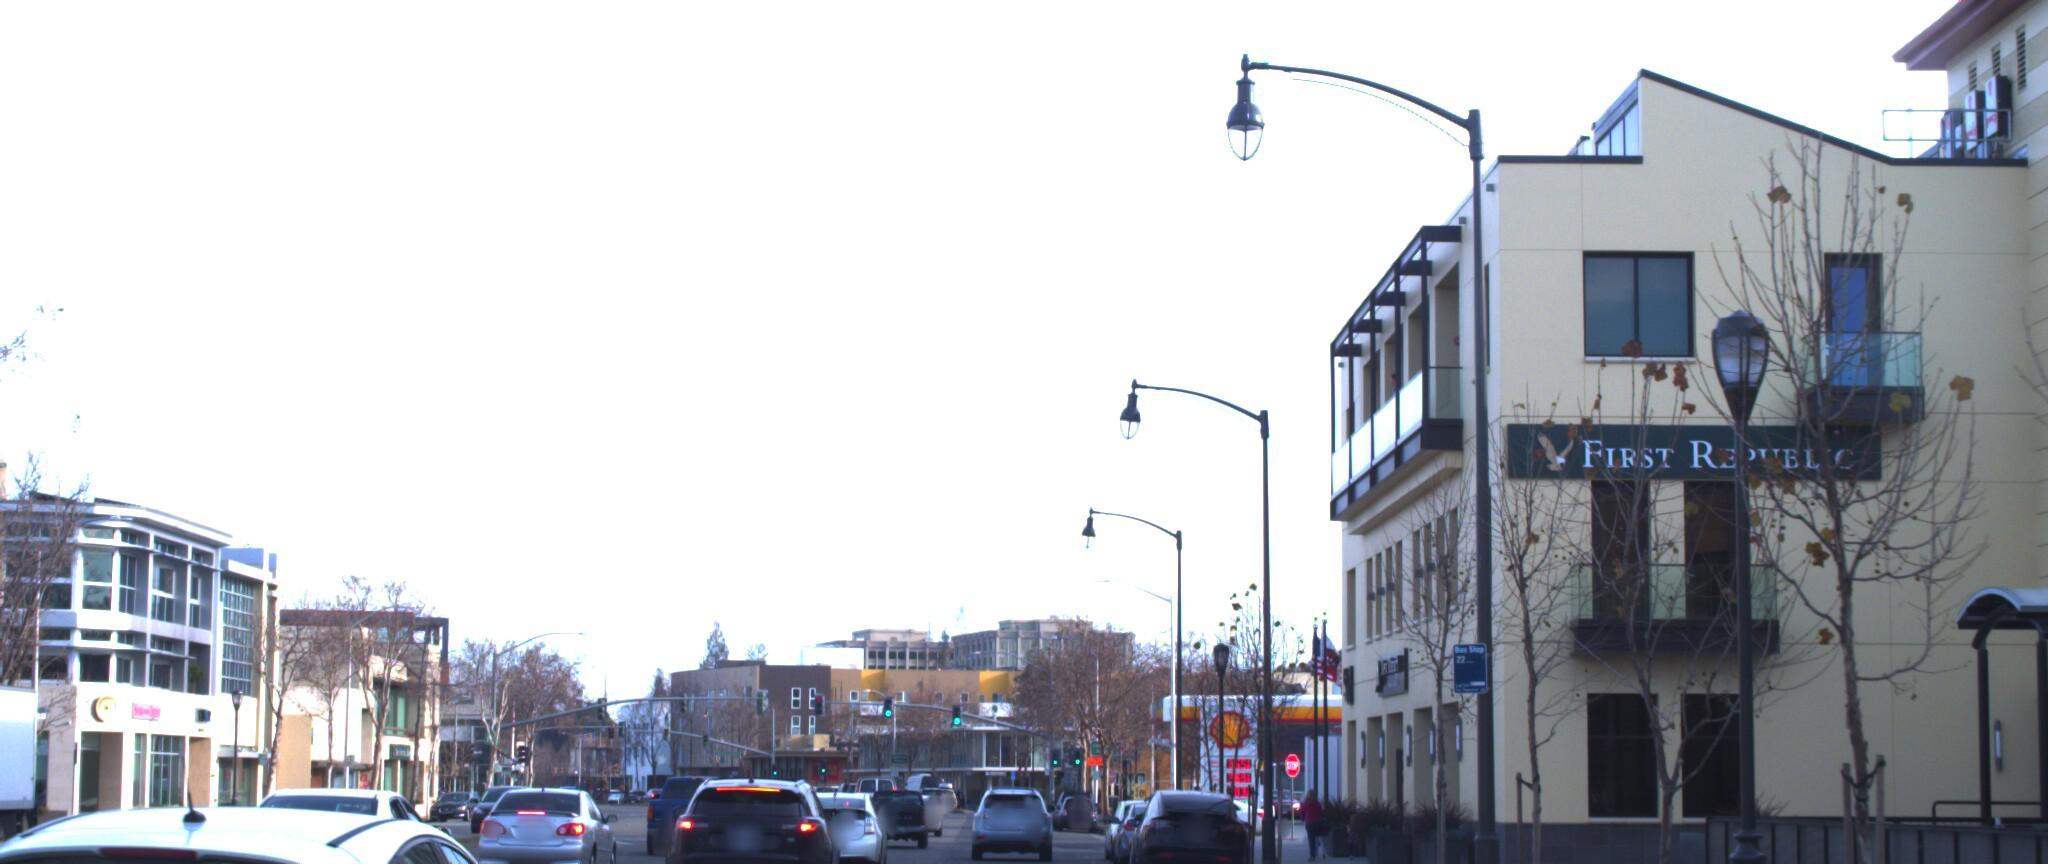car: (196, 764, 460, 864), (660, 753, 841, 864), (778, 761, 892, 864), (464, 792, 624, 864), (1128, 780, 1243, 864), (611, 761, 716, 842), (964, 777, 1053, 854), (865, 771, 936, 841)
